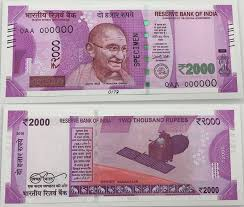twoThousand: (16, 16, 225, 81)
